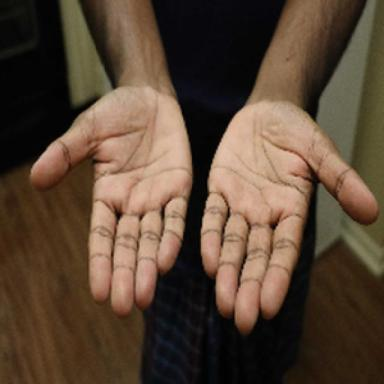normal skin: (201, 0, 378, 334), (31, 0, 192, 316)
